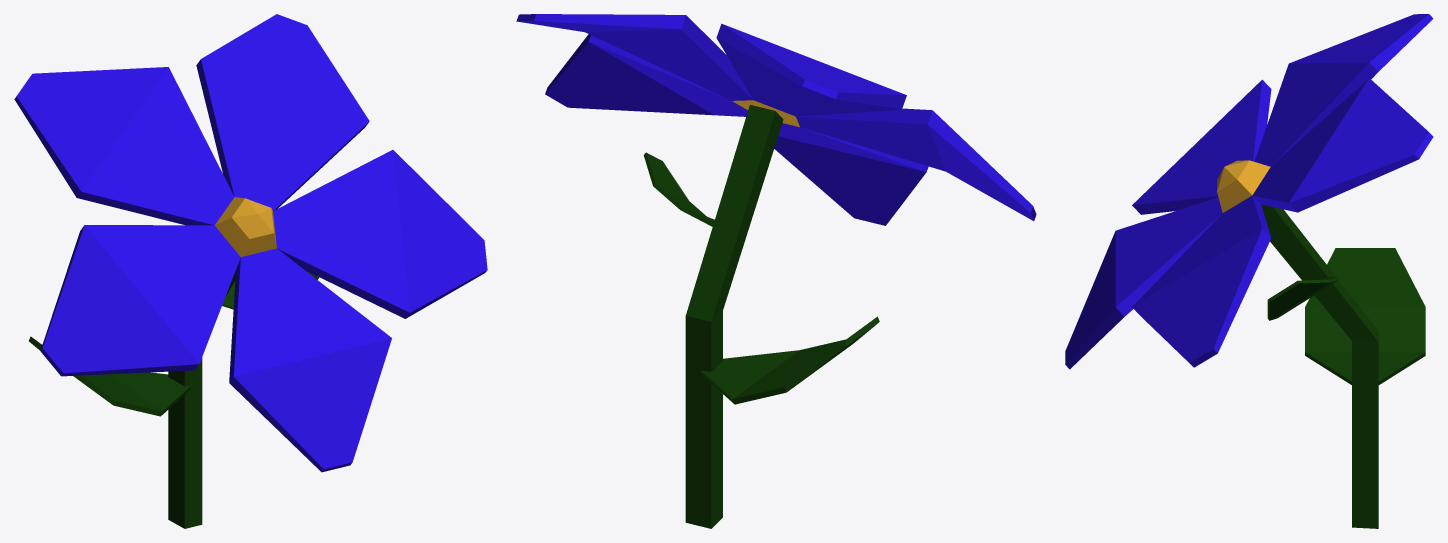
The model's file is Flower_2.fbx.
3 renders of one model, left to right at view 1: azimuth 30°, elevation 25°; view 2: azimuth 150°, elevation 25°; view 3: azimuth 270°, elevation 25°, orthographic. The views are drawn at different scales.
Parts seen in each view (by area): view 1: Flower_2; view 2: Flower_2; view 3: Flower_2.
Part boxes in pixels (<box>): Flower_2: <box>14,14,487,528</box>; Flower_2: <box>516,14,1036,528</box>; Flower_2: <box>1065,14,1433,528</box>.
Size of the model in its own units: 71.2 by 70.42 by 51.86.
